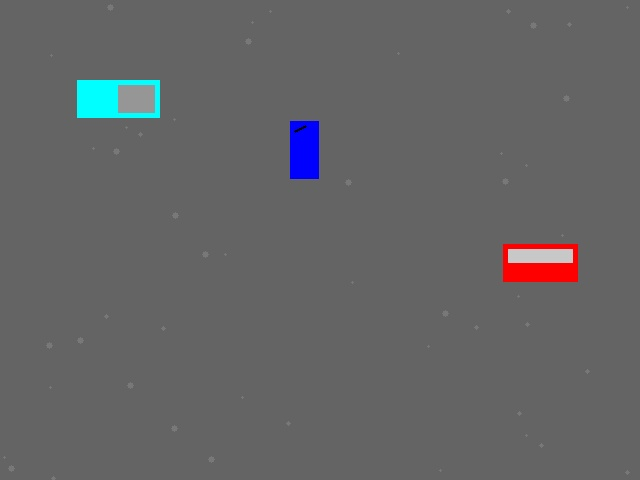car: (503, 244, 577, 281)
motorcycle: (290, 121, 318, 178)
truck: (77, 80, 159, 117)
